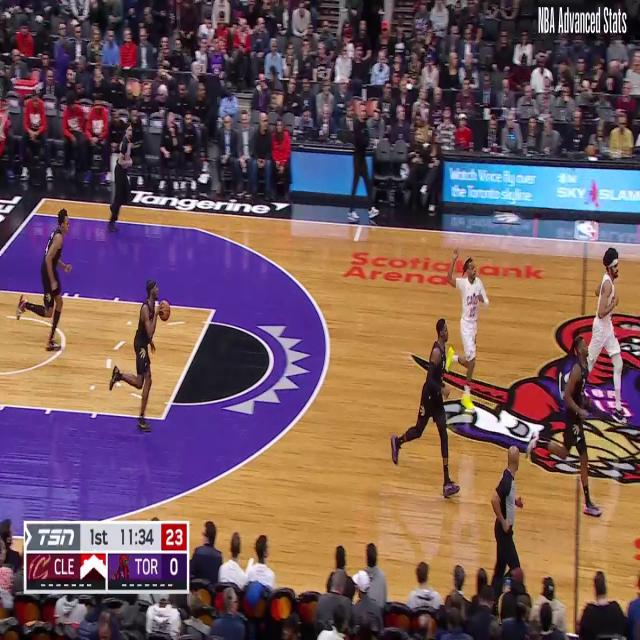ball: (158, 300, 171, 322)
judge: (489, 439, 528, 591), (106, 121, 136, 234)
player: (534, 332, 607, 521), (392, 317, 461, 500), (110, 278, 170, 434), (16, 211, 72, 350), (585, 252, 626, 424), (446, 253, 489, 413)
